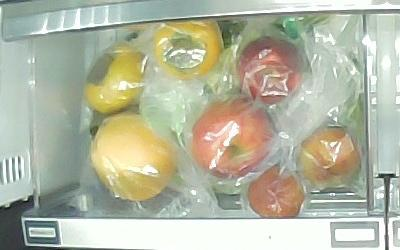apple_vinyl: (192, 98, 275, 180), (238, 37, 303, 105)
grapefruit_vinyl: (89, 111, 179, 199)
persimmon_vinyl: (84, 44, 145, 113), (154, 19, 223, 78)
prune_vinyl: (299, 127, 361, 191), (247, 166, 304, 218)
